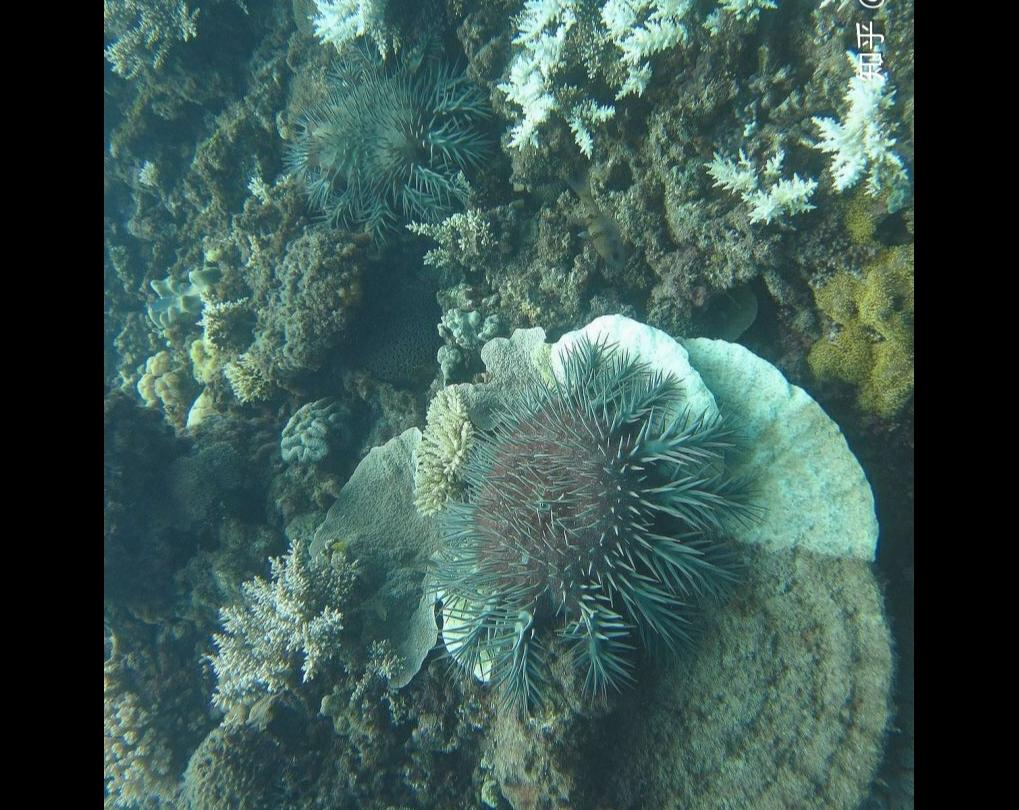bleached_corals: (683, 303, 891, 593), (170, 518, 387, 741), (373, 300, 572, 524), (502, 0, 717, 151), (797, 15, 914, 216), (127, 271, 263, 436), (102, 622, 217, 806), (698, 116, 830, 245), (558, 0, 708, 87), (401, 378, 487, 521), (411, 286, 509, 384), (104, 0, 207, 77), (312, 0, 392, 54)
